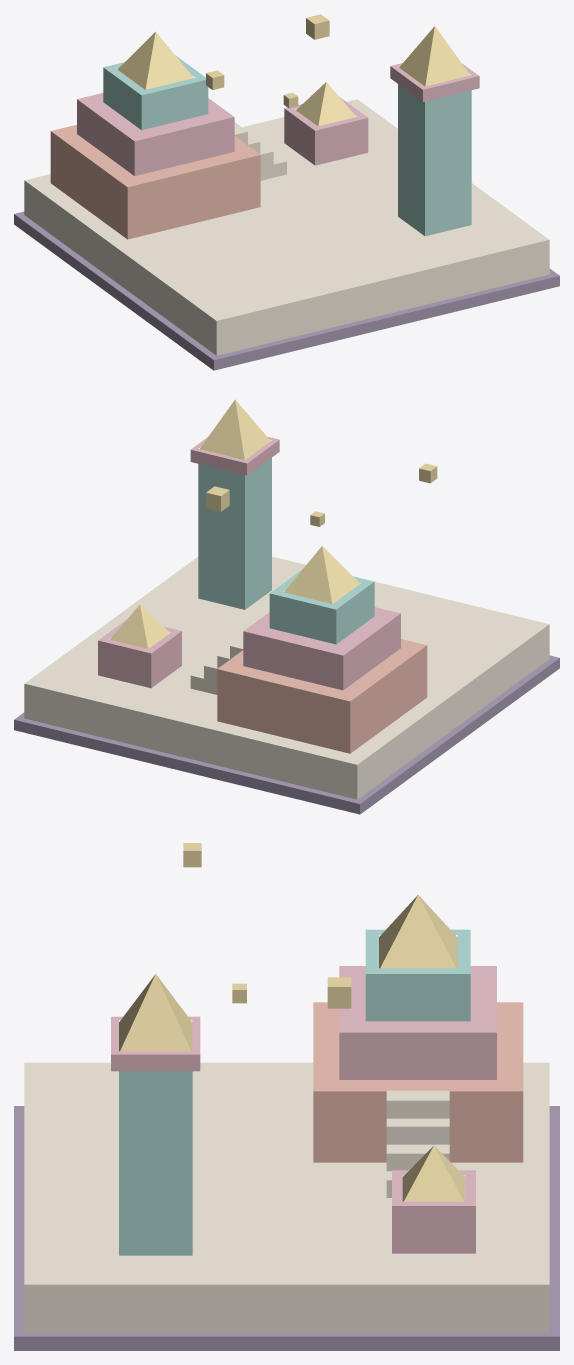
The model's file is monument.glb.
3 renders of one model, top to bottom at view 1: azimuth 30°, elevation 25°; view 2: azimuth 150°, elevation 25°; view 3: azimuth 270°, elevation 25°, orthographic. The views are drawn at different scales.
Visible parts, largest first — view 1: monument; view 2: monument; view 3: monument.
Part boxes in pixels (box(x1,y1,x2,y2)): monument: box(14, 14, 559, 370); monument: box(14, 399, 559, 814); monument: box(14, 843, 559, 1350).
Bounding box in the file's own units: 10.4 × 6.9 × 10.4.
